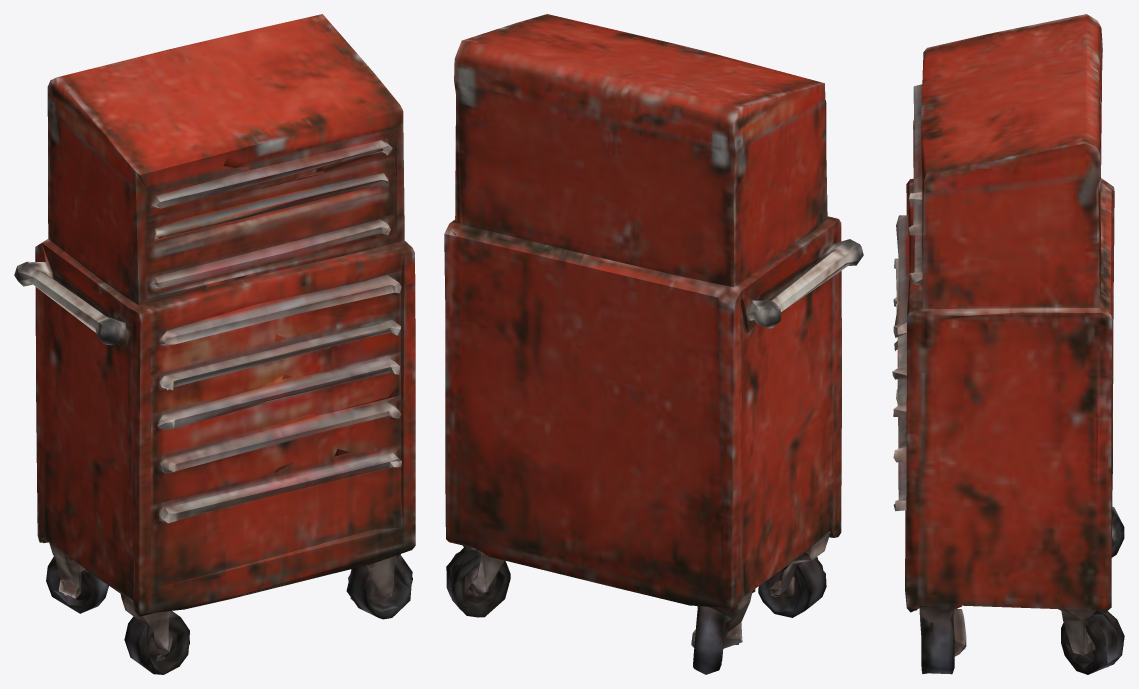
The model's file is p7-rolling-tool-chest.glb.
The picture shows the model from 3 angles, left to right: view 1: azimuth 30°, elevation 25°; view 2: azimuth 150°, elevation 25°; view 3: azimuth 270°, elevation 25°; orthographic projection. The views are drawn at different scales.
Visible parts, largest first — view 1: p7-rolling-tool-chest; view 2: p7-rolling-tool-chest; view 3: p7-rolling-tool-chest.
Part boxes in pixels (bbox=[...]): p7-rolling-tool-chest: bbox=[14, 14, 415, 674]; p7-rolling-tool-chest: bbox=[444, 14, 863, 674]; p7-rolling-tool-chest: bbox=[892, 14, 1124, 674].
Size of the model in its own units: 0.7 by 1.15 by 0.45.
Materials: 1 (1 with a texture image).
